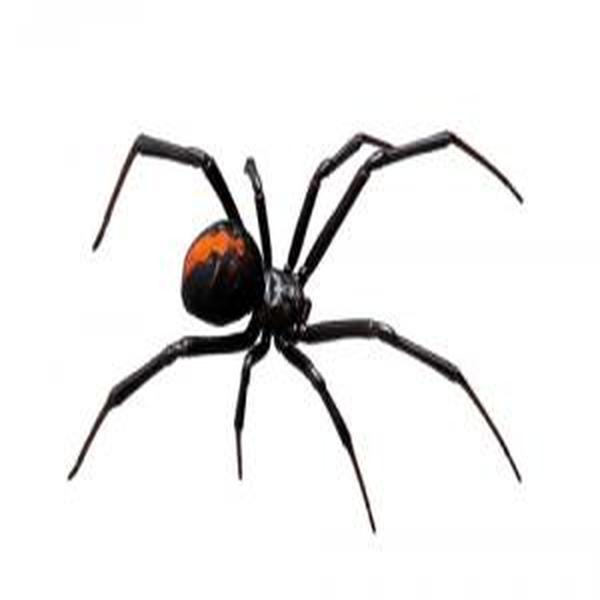Redback Spider: (76, 131, 524, 511)
